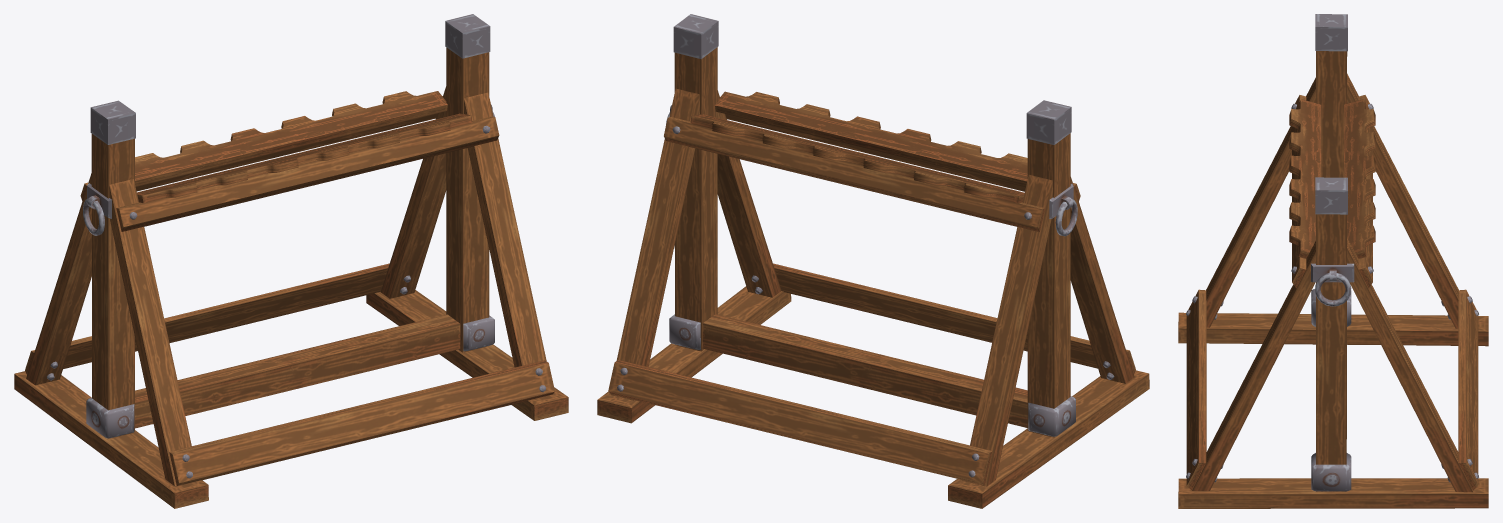
File: WeaponStand.gltf
3 views of the same model, side by side, from view 1: azimuth 30°, elevation 25°; view 2: azimuth 150°, elevation 25°; view 3: azimuth 270°, elevation 25° (orthographic). The views are drawn at different scales.
Parts seen in each view (by area): view 1: WeaponStand; view 2: WeaponStand; view 3: WeaponStand.
Part boxes in pixels (box(x1,y1,x2,y2)): WeaponStand: box(14, 14, 568, 508); WeaponStand: box(597, 14, 1149, 508); WeaponStand: box(1178, 14, 1488, 508).
Bounding box in the file's own units: 1.39 × 1.11 × 0.9831.
2 materials, 2 textured.
